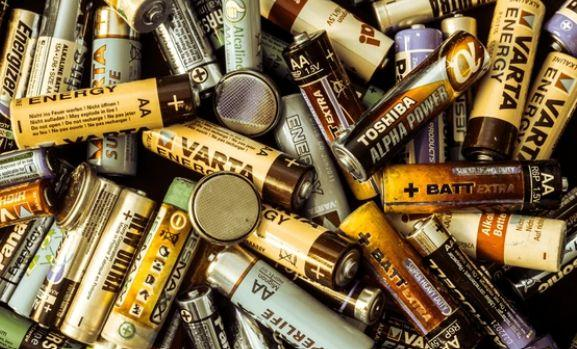battery: (330, 30, 492, 184), (141, 105, 317, 210), (204, 241, 375, 349), (408, 213, 534, 349), (340, 198, 460, 339), (59, 186, 160, 349), (9, 71, 204, 153), (461, 0, 548, 166), (259, 0, 396, 81), (378, 160, 571, 216), (418, 207, 571, 272), (251, 203, 363, 289), (281, 25, 360, 140), (94, 0, 139, 178), (150, 0, 224, 100), (189, 172, 261, 244), (0, 5, 44, 118), (216, 68, 284, 137), (178, 283, 232, 349), (224, 0, 260, 86), (0, 177, 57, 227), (0, 144, 59, 185)
